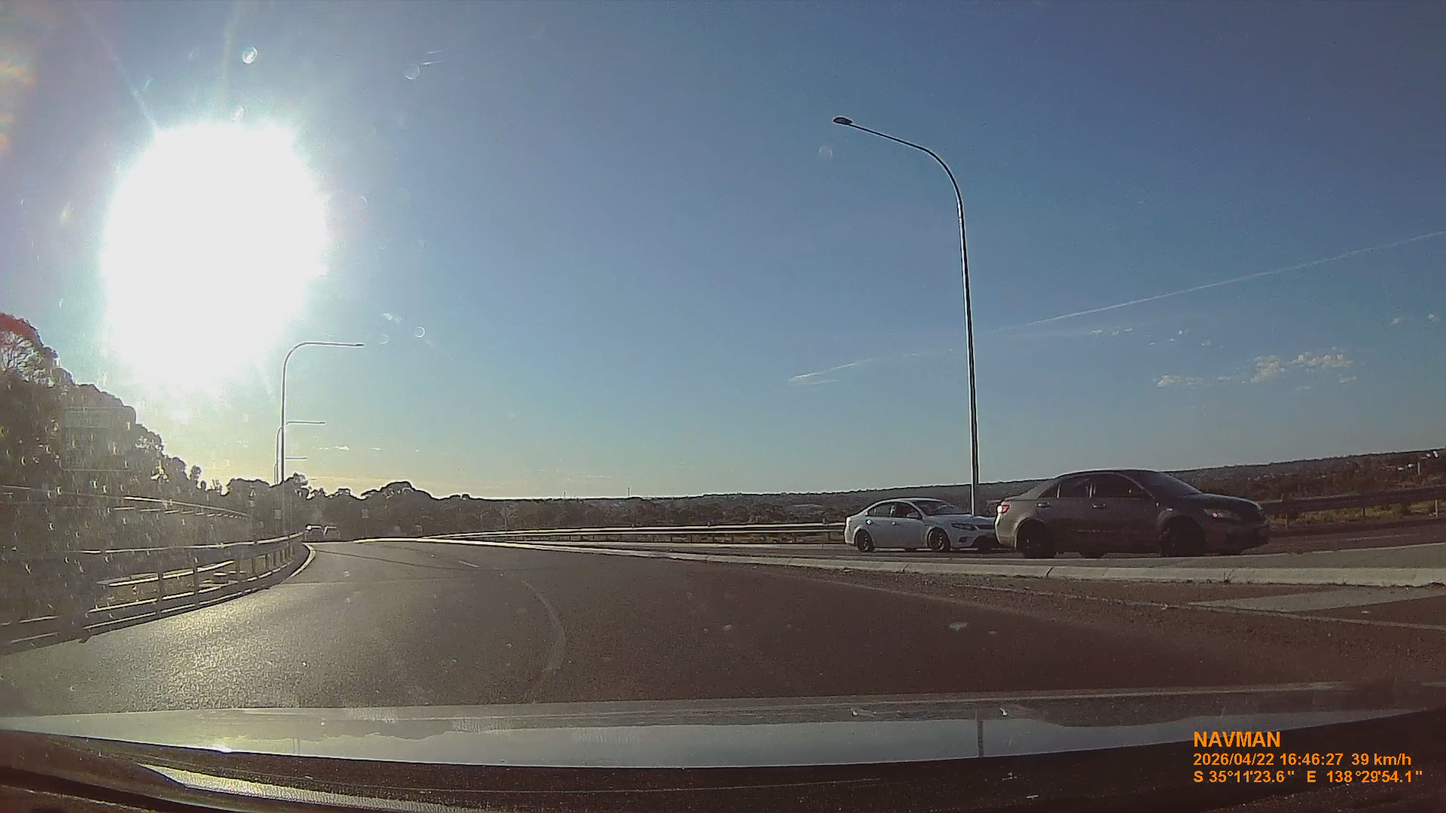road barriers: (456, 520, 852, 548)
